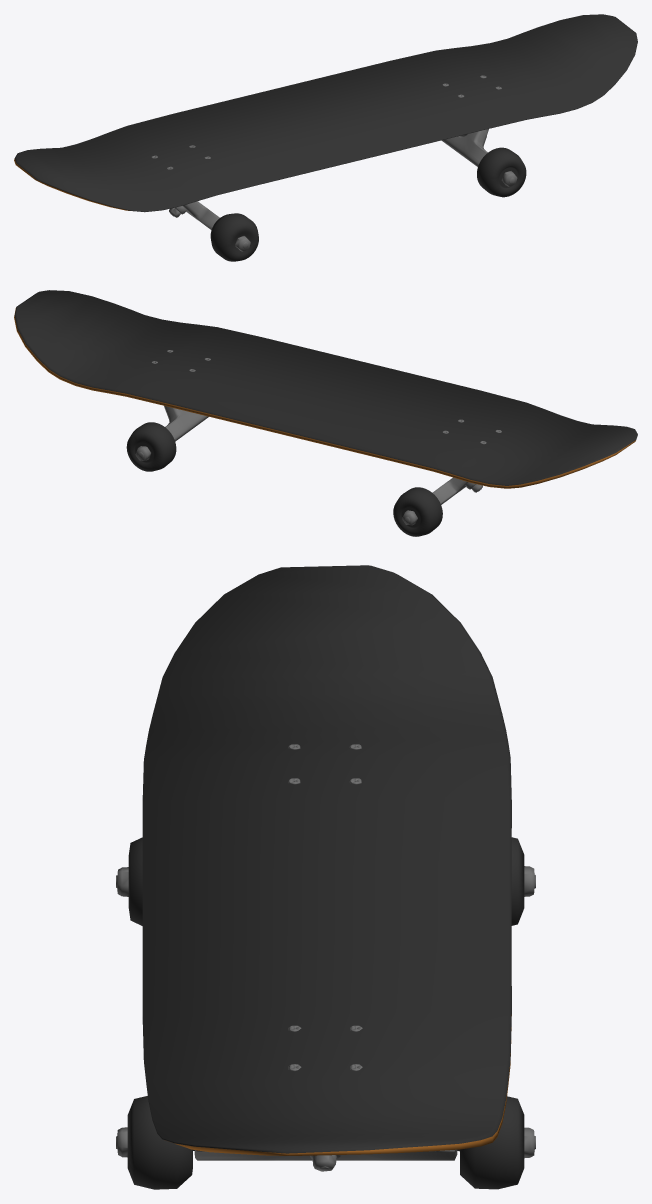
The model's file is scateboard (remeber its larger as its a real skateboard and not a toy.fbx.
3 renders of one model, top to bottom at view 1: azimuth 30°, elevation 25°; view 2: azimuth 150°, elevation 25°; view 3: azimuth 270°, elevation 25°, orthographic. The views are drawn at different scales.
Visible parts, largest first — view 1: skateboard; view 2: skateboard; view 3: skateboard.
Part boxes in pixels (left/top/right/bottom): skateboard: left=14, top=14, right=637, bottom=261; skateboard: left=14, top=290, right=637, bottom=536; skateboard: left=116, top=565, right=535, bottom=1189.
Size of the model in its own units: 16866 by 2667 by 5110.
